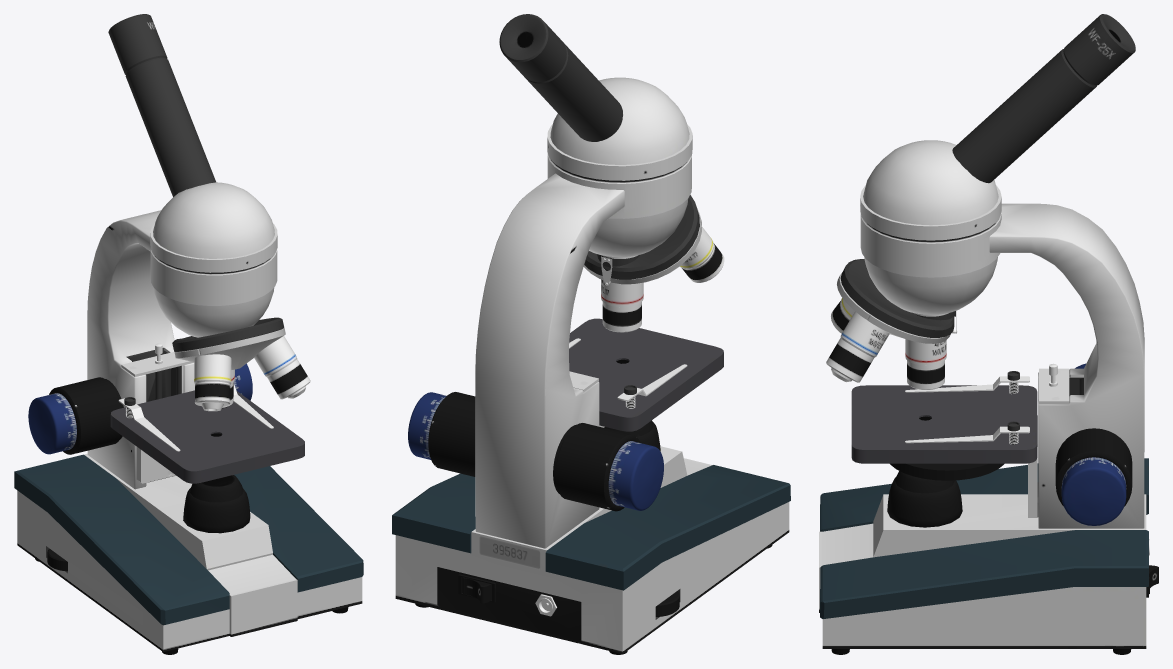
The model's file is microscope.glb.
3 views of the same model, side by side, from view 1: azimuth 30°, elevation 25°; view 2: azimuth 150°, elevation 25°; view 3: azimuth 270°, elevation 25° (orthographic). The views are drawn at different scales.
Visible parts, largest first — view 1: Microscope; view 2: Microscope; view 3: Microscope.
Boxes of the visible parts, x1,y1,x2,y2 form: Microscope: (14,14,363,654); Microscope: (392,14,790,654); Microscope: (819,14,1158,654).
Size of the model in its own units: 13.46 by 32.73 by 17.15.
Materials: 1 (1 with a texture image).
